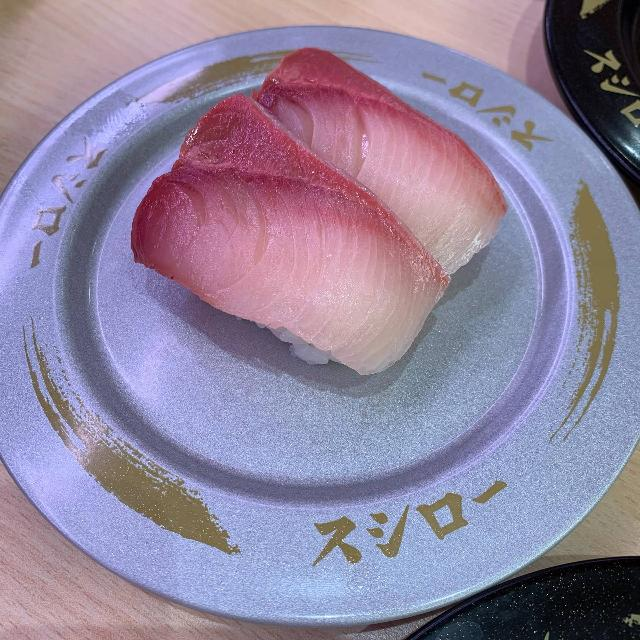janback: (536, 7, 640, 201), (436, 564, 640, 640)
janwhite: (6, 44, 618, 580)
